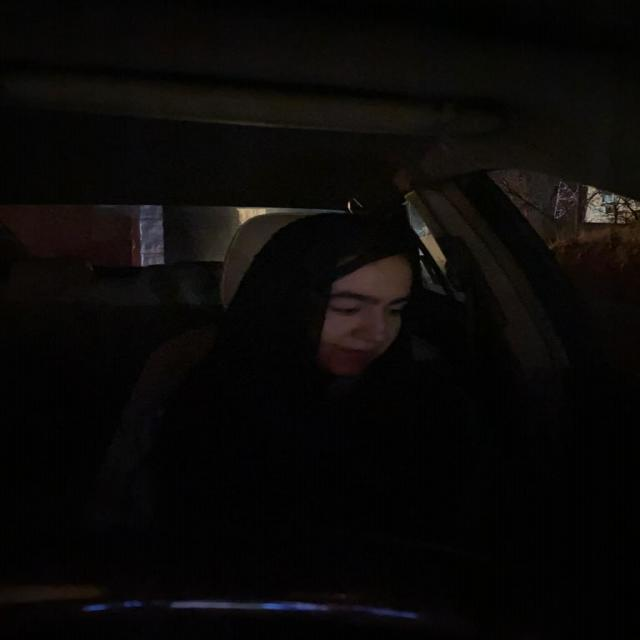drowsy: (259, 200, 440, 396)
